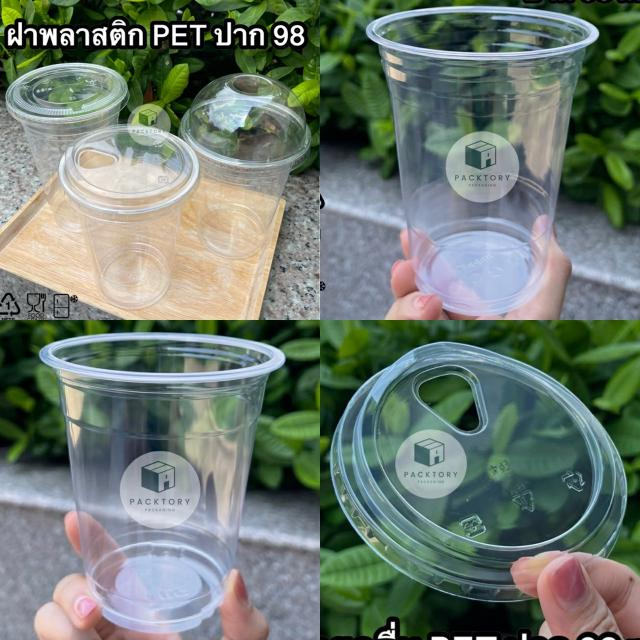Single-Use-Plastic: (331, 342, 626, 601), (40, 332, 285, 633), (366, 8, 598, 315), (59, 125, 199, 308), (180, 74, 311, 258), (6, 62, 129, 232)
